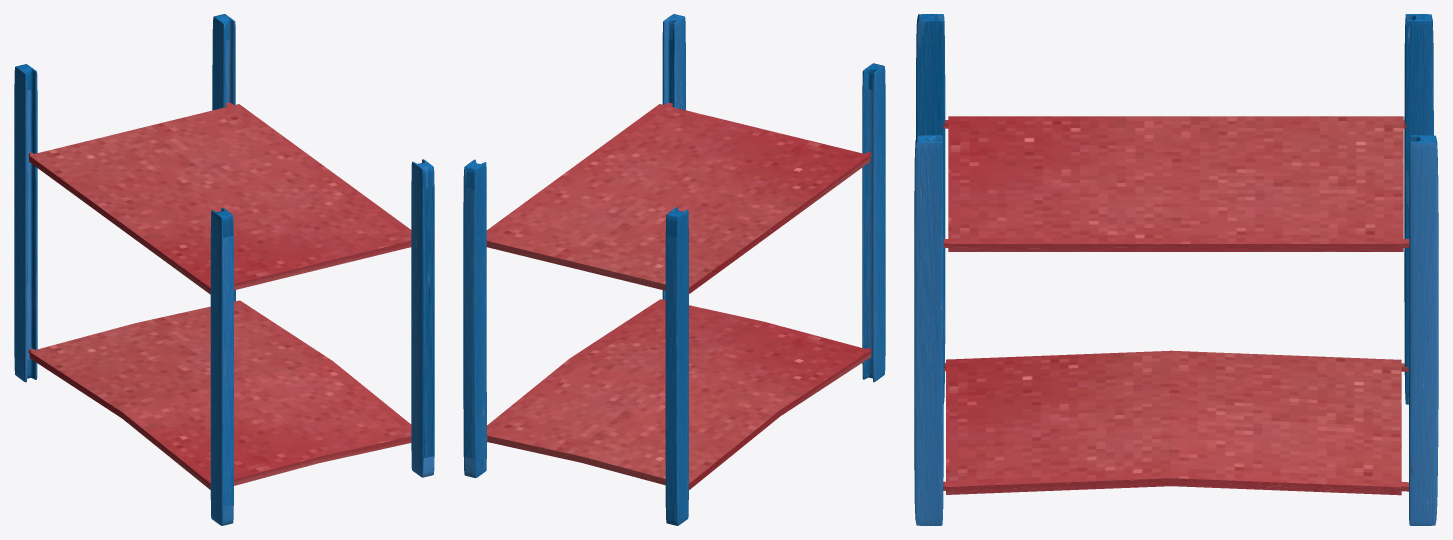
Rendered from ShelfBentBottom.fbx.
The picture shows the model from 3 angles, left to right: view 1: azimuth 30°, elevation 25°; view 2: azimuth 150°, elevation 25°; view 3: azimuth 270°, elevation 25°; orthographic projection. The views are drawn at different scales.
Parts seen in each view (by area): view 1: pasted__pCube6, pasted__pCube5, pCube1, pCube7, pCube8, pCube9; view 2: pasted__pCube6, pasted__pCube5, pCube9, pCube8, pCube7, pCube1; view 3: pasted__pCube5, pasted__pCube6, pCube1, pCube9, pCube8, pCube7.
Part boxes in pixels (x1,y1,x2,y2): pasted__pCube6: [28, 102, 411, 294]; pasted__pCube5: [28, 300, 411, 489]; pCube1: [411, 159, 434, 477]; pCube7: [210, 207, 233, 525]; pCube8: [14, 64, 37, 382]; pCube9: [212, 14, 235, 301]; pasted__pCube6: [486, 102, 871, 293]; pasted__pCube5: [487, 299, 871, 489]; pCube9: [463, 159, 486, 478]; pCube8: [665, 207, 688, 525]; pCube7: [862, 63, 885, 382]; pCube1: [662, 14, 685, 299]; pasted__pCube5: [943, 350, 1408, 495]; pasted__pCube6: [943, 116, 1409, 251]; pCube1: [914, 135, 943, 525]; pCube9: [1409, 135, 1438, 525]; pCube8: [1404, 14, 1433, 404]; pCube7: [916, 14, 945, 403].
Bounding box in the file's own units: 6.09 × 8.41 × 10.4.
2 materials, 2 textured.
